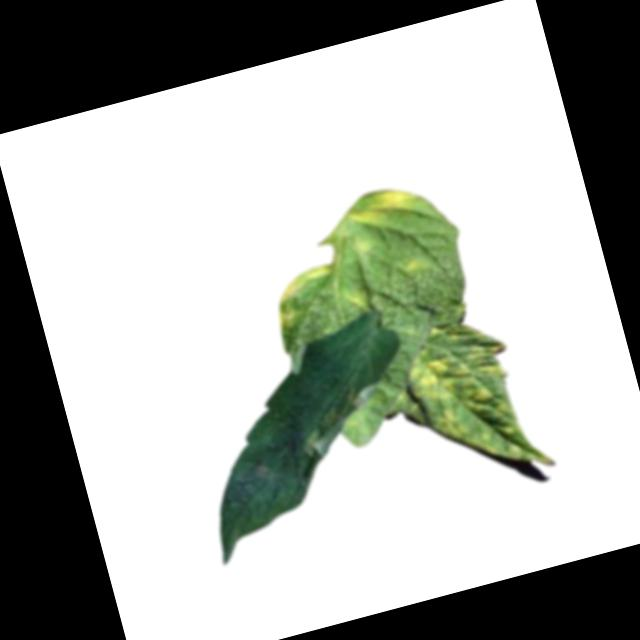Leaf_Mold: (401, 325, 536, 484), (288, 374, 389, 461), (268, 262, 344, 330), (347, 181, 421, 233), (397, 252, 427, 279), (348, 286, 371, 311)
